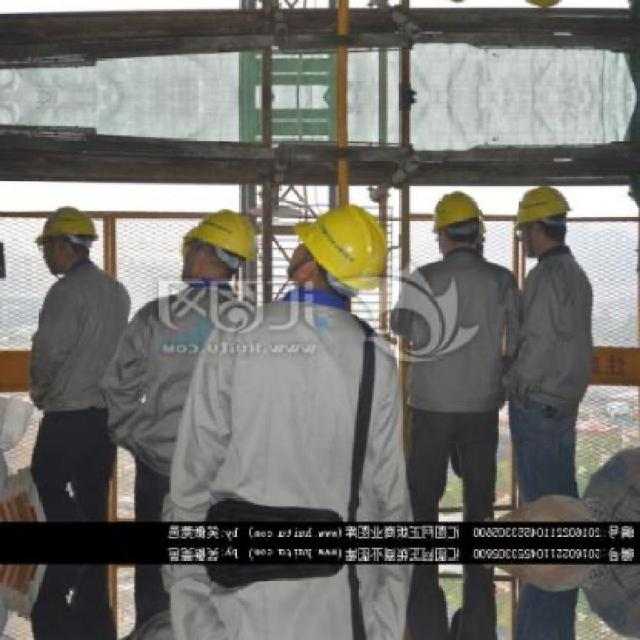con casco: (147, 193, 274, 318), (272, 187, 382, 320), (19, 183, 109, 328), (418, 180, 499, 286), (512, 179, 590, 278)
